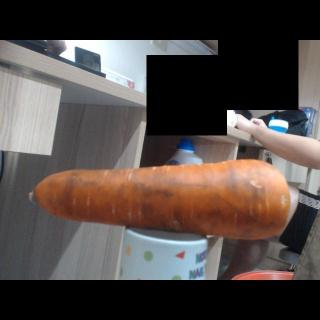carrot: (30, 158, 292, 242)
